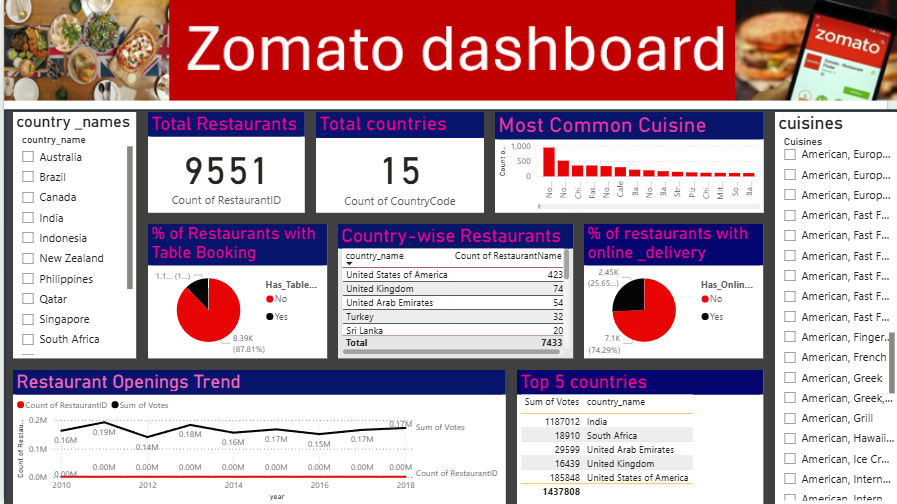

The dashboard page shown, as its layout file describes it:
{"tool":"powerbi","page":{"name":"Page 2","canvas":[1280,720],"ordinal":1},"visuals":[{"type":"card","title":"Total Restaurants","fields":{"Values":["Count(rest_data.RestaurantID)"]},"box":[208,160,224,144],"z":0},{"type":"slicer","title":"country _names","fields":{"Values":["country_data.country_name"]},"box":[16,160,176,352],"z":1000},{"type":"slicer","title":"cuisines","fields":{"Values":["rest_data.Cuisines"]},"box":[1104,160,176,560],"z":2000},{"type":"pieChart","title":"% of restaurants with online _delivery","fields":{"Category":["rest_data.Has_Online_delivery"],"Y":["CountNonNull(rest_data.RestaurantName)"]},"box":[832,320,256,192],"z":3000},{"type":"pieChart","title":"% of Restaurants with Table Booking","fields":{"Category":["rest_data.Has_Table_booking"],"Y":["CountNonNull(rest_data.RestaurantName)"]},"box":[208,320,256,192],"z":4000},{"type":"lineChart","title":"Restaurant Openings Trend","fields":{"Category":["rest_data.year"],"Y":["CountNonNull(rest_data.RestaurantID)","Sum(rest_data.Votes)"]},"box":[16,528,704,192],"z":5000},{"type":"lineStackedColumnComboChart","title":"Most Common Cuisine","fields":{"Category":["rest_data.Cuisines"],"Y":["CountNonNull(rest_data.RestaurantName)"]},"box":[704,160,384,144],"z":6000},{"type":"tableEx","title":"Country-wise Restaurants","fields":{"Values":["country_data.country_name","rest_data.RestaurantName"]},"box":[480,320,336,192],"z":7000},{"type":"card","title":"Total countries","fields":{"Values":["Count(rest_data.CountryCode)"]},"box":[448,160,240,144],"z":9000},{"type":"tableEx","title":"Top 5 countries","fields":{"Values":["Sum(rest_data.Votes)","country_data.country_name"]},"box":[736,528,352,192],"z":9001}]}

Visuals, with their boxes in screenshot pixels (x1, y1, x2, y2), scaled from the page's 1280x720 canvas onto the 897x504 screenshot:
"Total Restaurants" card: {"x1": 146, "y1": 112, "x2": 303, "y2": 213}
"country _names" slicer: {"x1": 11, "y1": 112, "x2": 135, "y2": 358}
"cuisines" slicer: {"x1": 774, "y1": 112, "x2": 896, "y2": 503}
"% of restaurants with online _delivery" pieChart: {"x1": 583, "y1": 224, "x2": 762, "y2": 358}
"% of Restaurants with Table Booking" pieChart: {"x1": 146, "y1": 224, "x2": 325, "y2": 358}
"Restaurant Openings Trend" lineChart: {"x1": 11, "y1": 370, "x2": 505, "y2": 503}
"Most Common Cuisine" lineStackedColumnComboChart: {"x1": 493, "y1": 112, "x2": 762, "y2": 213}
"Country-wise Restaurants" tableEx: {"x1": 336, "y1": 224, "x2": 572, "y2": 358}
"Total countries" card: {"x1": 314, "y1": 112, "x2": 482, "y2": 213}
"Top 5 countries" tableEx: {"x1": 516, "y1": 370, "x2": 762, "y2": 503}
